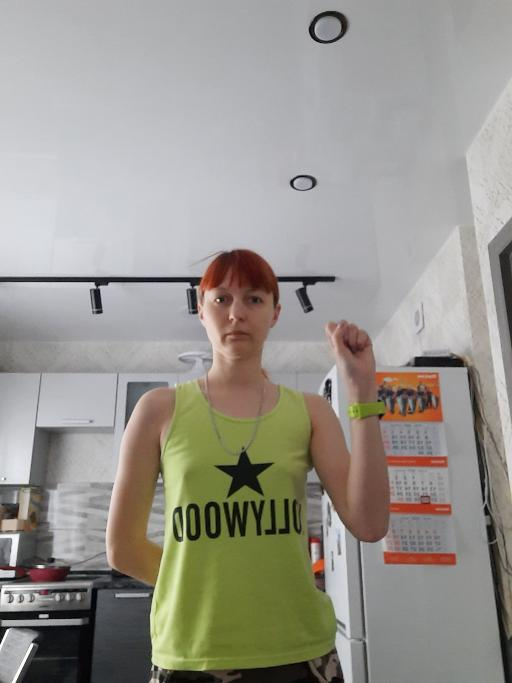fist: (322, 315, 379, 383)
